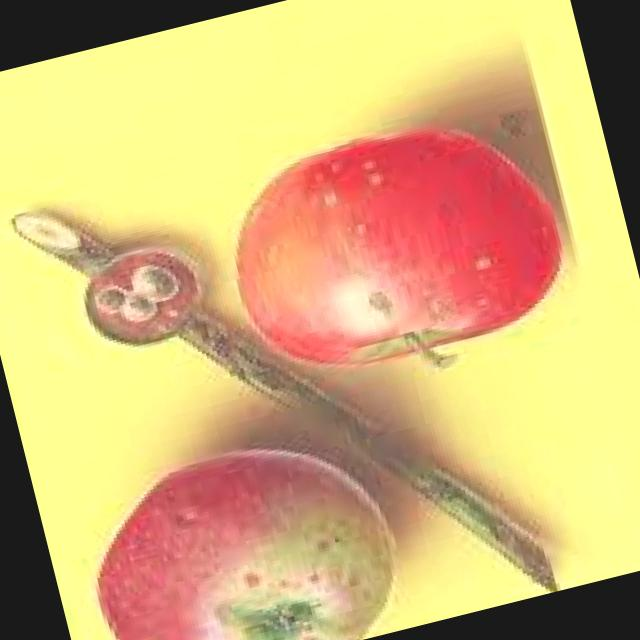Red Apple: (222, 102, 572, 381), (70, 419, 407, 640)
